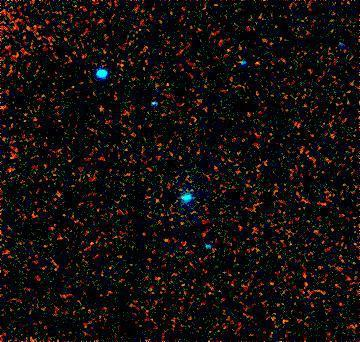star: (249, 48, 279, 78)
